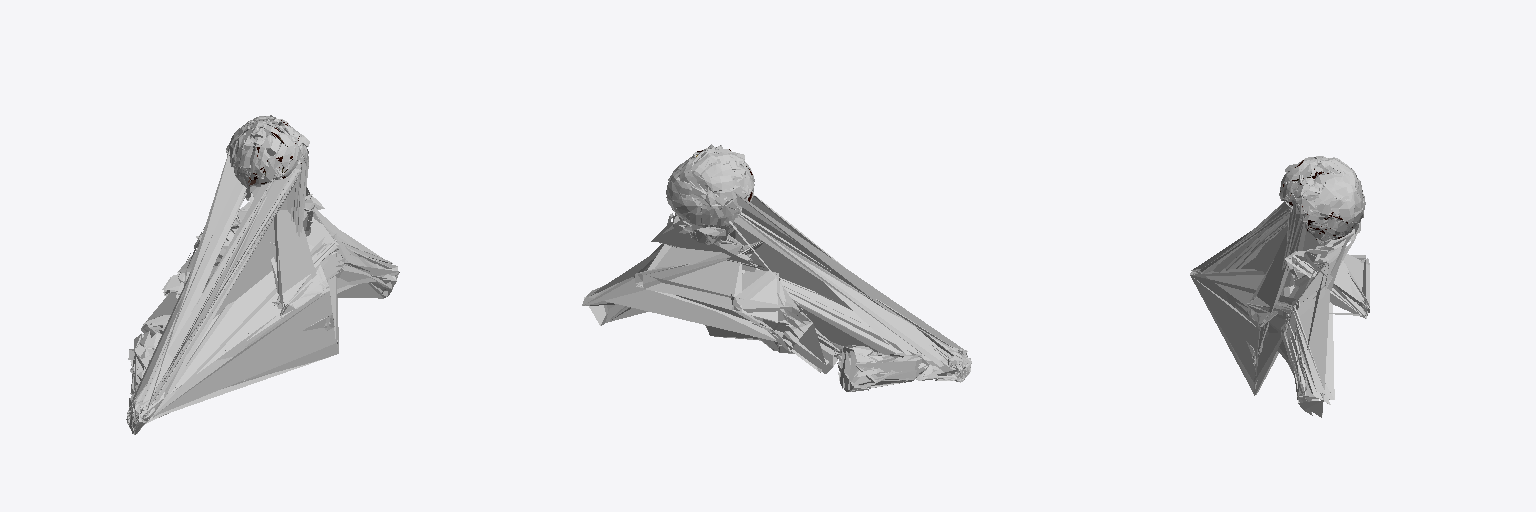
The picture shows the model from 3 angles: view 1: azimuth 30°, elevation 25°; view 2: azimuth 150°, elevation 25°; view 3: azimuth 270°, elevation 25°; orthographic projection.
Visible parts, largest first — view 1: Model001_24_Cloth_0.20_0_0.4_RightLeg_RightLeg Knee, Model001_24_Belts_0.20_0_0.2_LeftLeg_LeftLeg Knee, Model001_6_Hair_0.1_0_0.1, Model001_24_Armor_0.30_0_0.1_Hips_Pelvis 1; view 2: Model001_24_Cloth_0.20_0_0.4_RightLeg_RightLeg Knee, Model001_6_Hair_0.1_0_0.1, Model001_24_Belts_0.20_0_0.2_LeftLeg_LeftLeg Knee; view 3: Model001_24_Cloth_0.20_0_0.4_RightLeg_RightLeg Knee, Model001_6_Hair_0.1_0_0.1, Model001_24_Belts_0.20_0_0.2_LeftLeg_LeftLeg Knee, Model001_24_Armor_0.30_0_0.1_Hips_Pelvis 1.
Part boxes in pixels (bbox=[...]): Model001_24_Cloth_0.20_0_0.4_RightLeg_RightLeg Knee: bbox=[126, 115, 399, 434]; Model001_24_Belts_0.20_0_0.2_LeftLeg_LeftLeg Knee: bbox=[127, 116, 308, 434]; Model001_6_Hair_0.1_0_0.1: bbox=[227, 115, 309, 200]; Model001_24_Armor_0.30_0_0.1_Hips_Pelvis 1: bbox=[227, 118, 308, 236]; Model001_24_Cloth_0.20_0_0.4_RightLeg_RightLeg Knee: bbox=[582, 144, 971, 391]; Model001_6_Hair_0.1_0_0.1: bbox=[666, 145, 754, 244]; Model001_24_Belts_0.20_0_0.2_LeftLeg_LeftLeg Knee: bbox=[668, 146, 971, 381]; Model001_24_Cloth_0.20_0_0.4_RightLeg_RightLeg Knee: bbox=[1190, 157, 1369, 417]; Model001_6_Hair_0.1_0_0.1: bbox=[1279, 156, 1365, 245]; Model001_24_Belts_0.20_0_0.2_LeftLeg_LeftLeg Knee: bbox=[1202, 157, 1365, 297]; Model001_24_Armor_0.30_0_0.1_Hips_Pelvis 1: bbox=[1282, 157, 1362, 286].
Bounding box in the file's own units: 0.9659 × 0.6496 × 0.4639.
Materials: 11 (3 with a texture image).